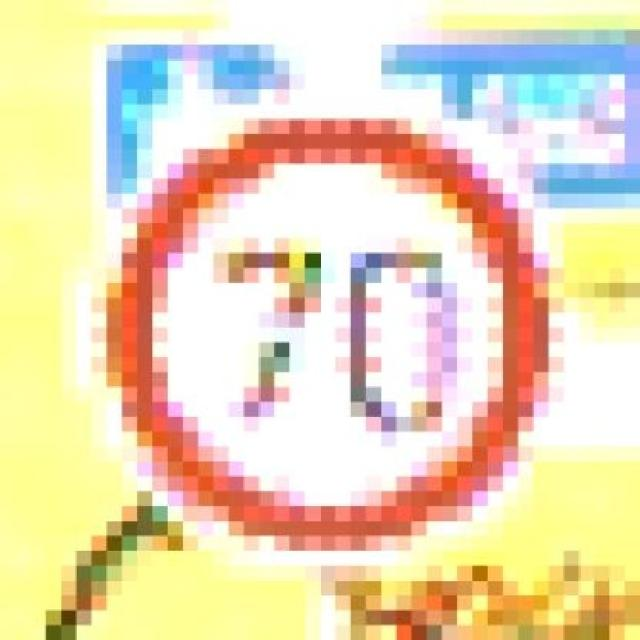forb_speed_over_70: (103, 113, 552, 539)
